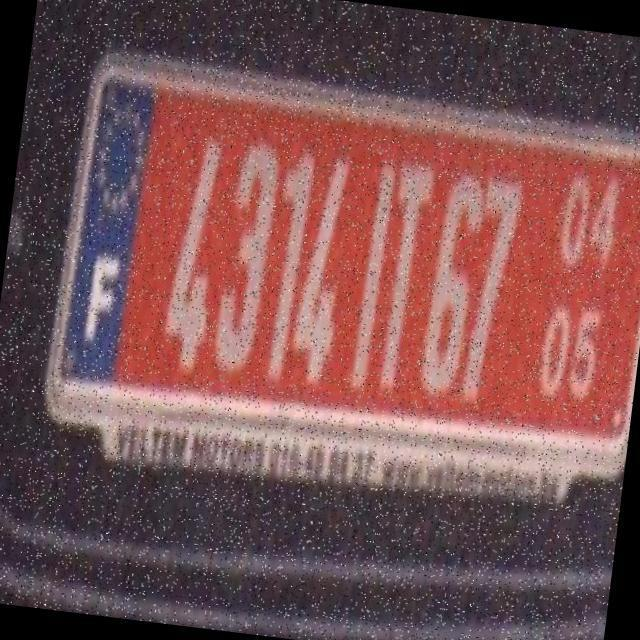License Plate: (28, 1, 640, 542)
